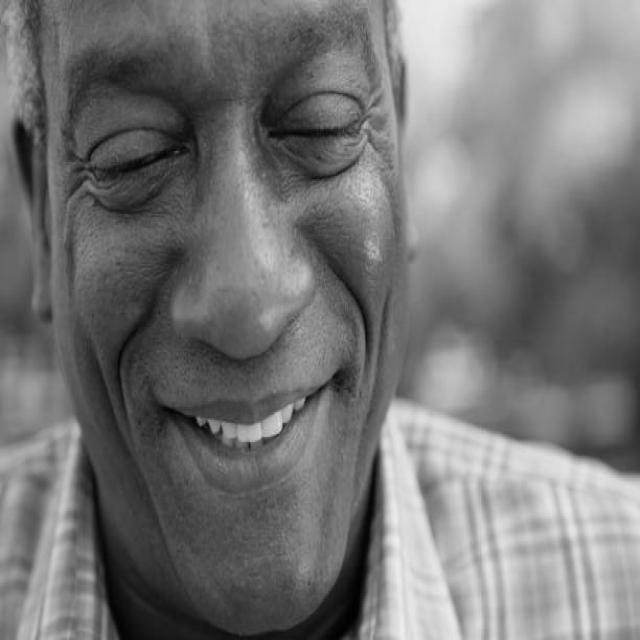real: (40, 8, 409, 562), (48, 36, 389, 231)
